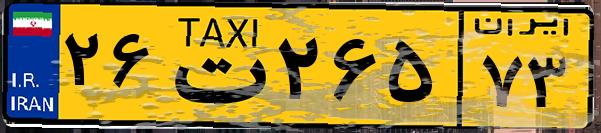2: (270, 28, 330, 110), (57, 26, 110, 100)
3: (525, 38, 570, 115)
5: (385, 28, 445, 110)
6: (330, 28, 385, 110), (110, 28, 158, 98)
7: (475, 38, 525, 113)
ت: (158, 12, 270, 120)
